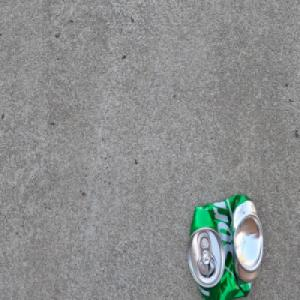SodaCan: (186, 191, 263, 300)
